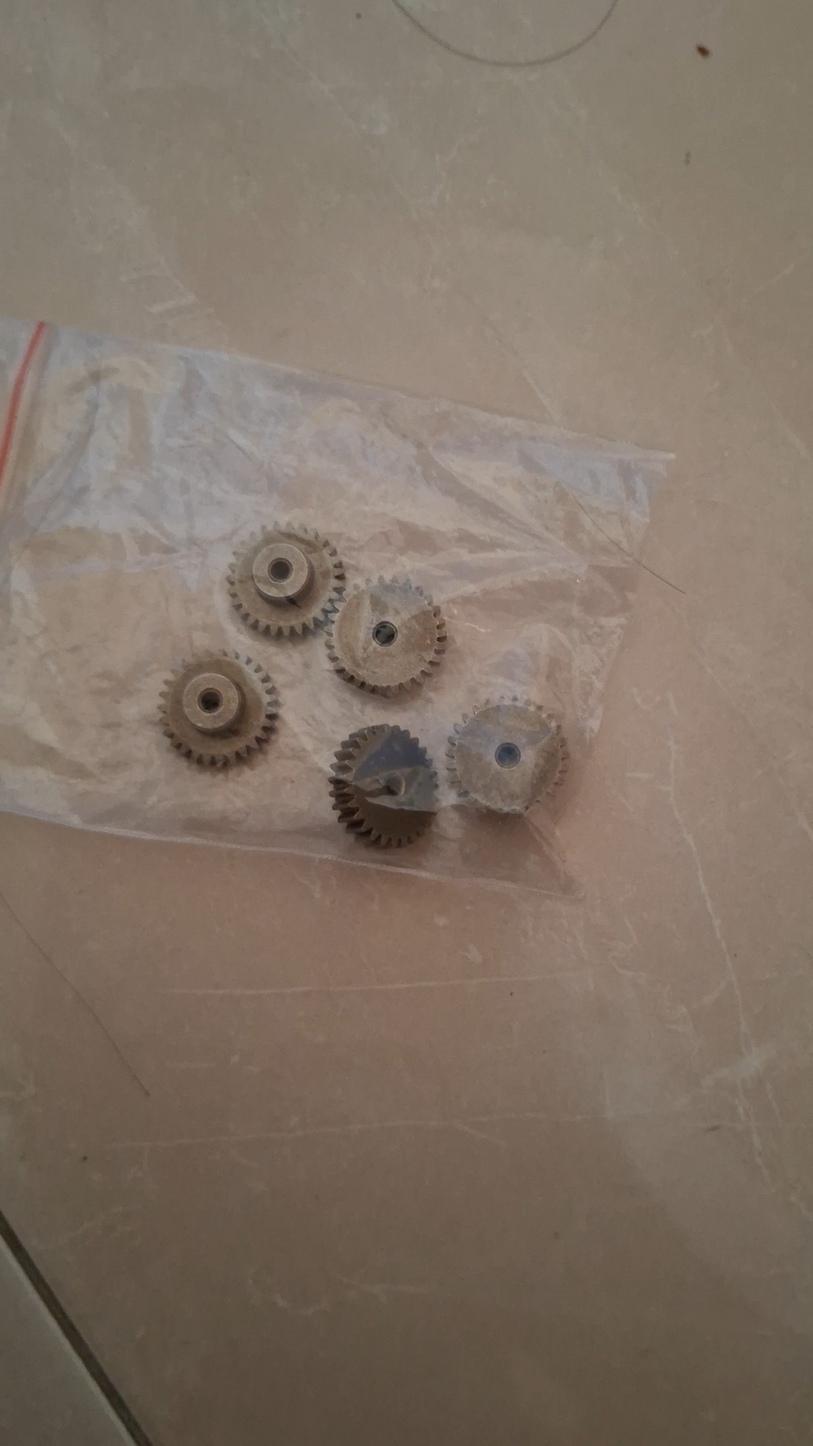spur gear: (447, 698, 569, 814), (326, 578, 446, 695), (160, 653, 278, 765), (330, 724, 437, 846), (228, 525, 344, 636)
